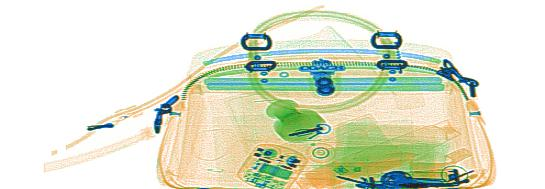seal: (263, 97, 328, 141)
